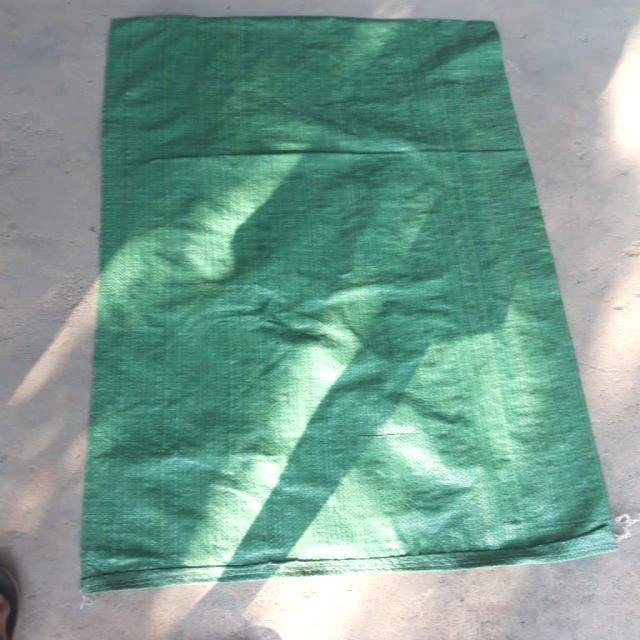gunny_bag: (81, 16, 615, 593)
